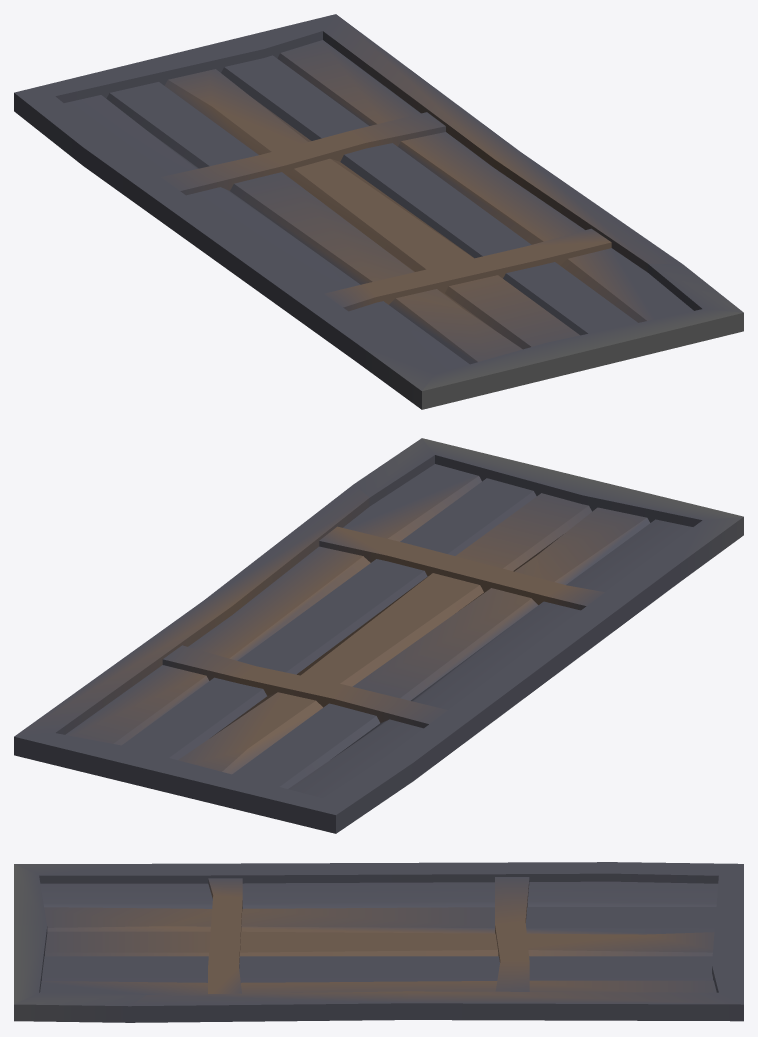
Rendered from SM_Prop_WoodPlank_02.glb.
3 views of the same model, one above another, from view 1: azimuth 30°, elevation 25°; view 2: azimuth 150°, elevation 25°; view 3: azimuth 270°, elevation 25° (orthographic). The views are drawn at different scales.
Parts seen in each view (by area): view 1: SM_Prop_WoodPlank_02; view 2: SM_Prop_WoodPlank_02; view 3: SM_Prop_WoodPlank_02.
Boxes of the visible parts, x1,y1,x2,y2 form: SM_Prop_WoodPlank_02: (14,14,743,409); SM_Prop_WoodPlank_02: (14,438,743,833); SM_Prop_WoodPlank_02: (14,862,743,1022).
Size of the model in its own units: 0.0213 by 0.00115 by 0.0456.
